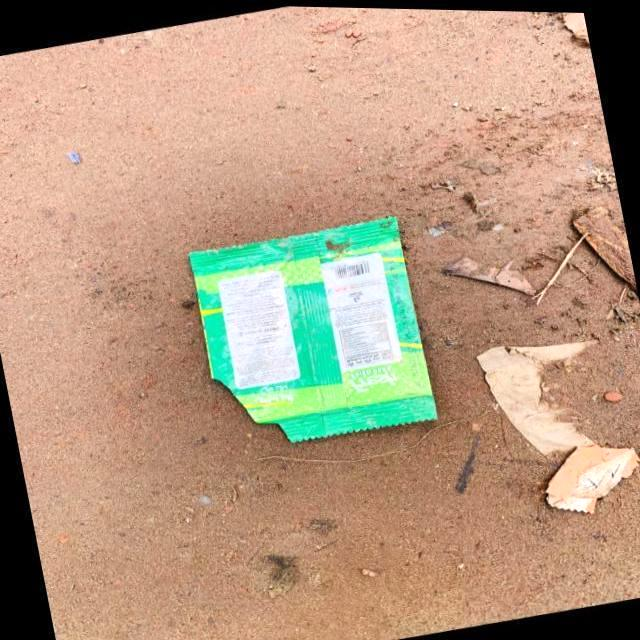packet: (179, 204, 446, 464)
